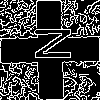N: (25, 25, 72, 62)
